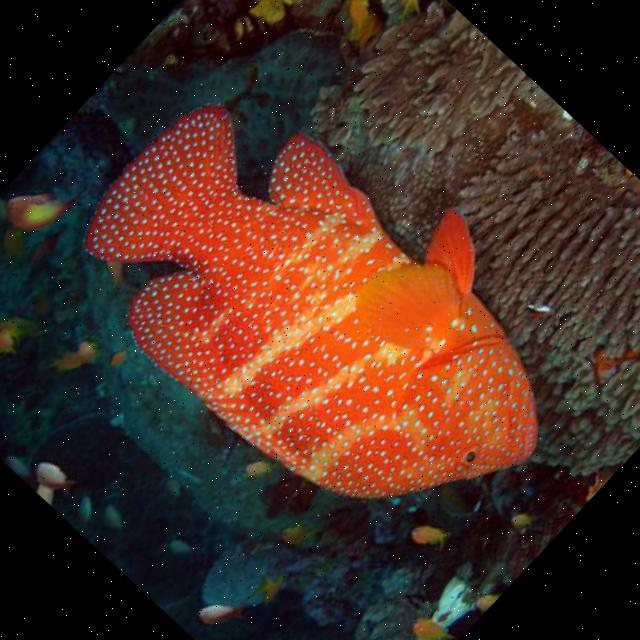ikan: (38, 23, 622, 599)
